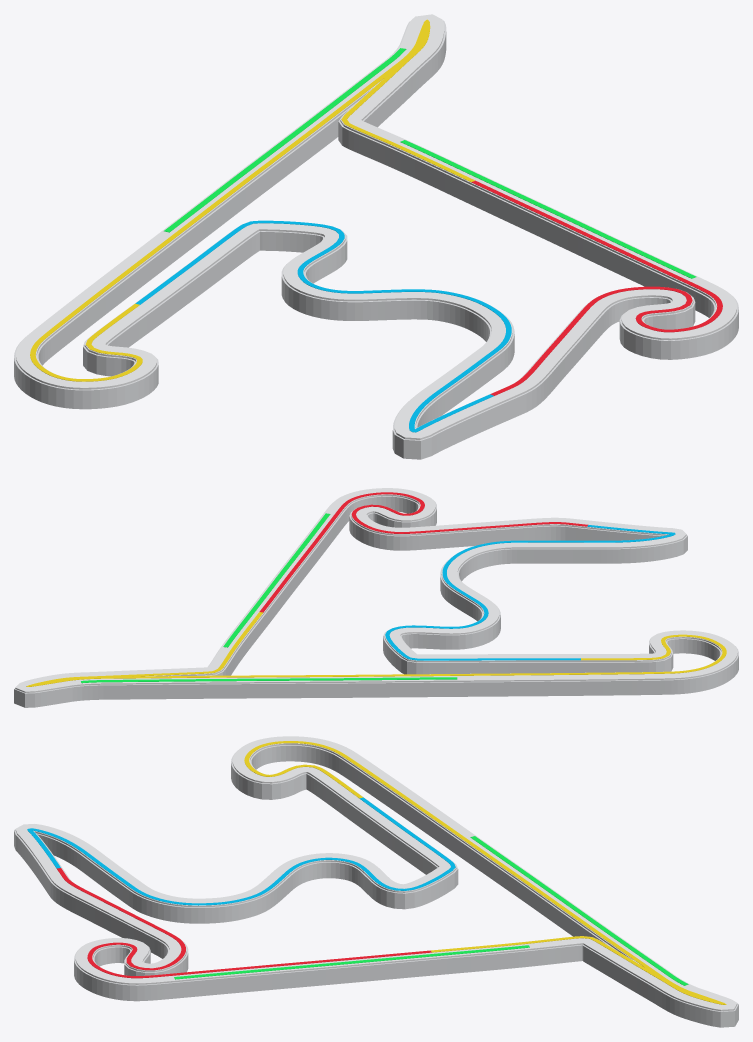
File: ShanghaiCircuit.glb
3 views of the same model, one above another, from view 1: azimuth 30°, elevation 25°; view 2: azimuth 150°, elevation 25°; view 3: azimuth 270°, elevation 25° (orthographic). The views are drawn at different scales.
Visible parts, largest first — view 1: ShanghaiOutline, ShanghaiTrack, SectorStrip_3, SectorStrip_2, SectorStrip_1, DrsStrip_1, DrsStrip_2; view 2: ShanghaiOutline, ShanghaiTrack, SectorStrip_3, SectorStrip_2, SectorStrip_1, DrsStrip_1, DrsStrip_2; view 3: ShanghaiOutline, ShanghaiTrack, SectorStrip_3, SectorStrip_2, SectorStrip_1, DrsStrip_2, DrsStrip_1.
Part boxes in pixels (x1,y1,x2,y2): ShanghaiOutline: (14, 19, 738, 459); ShanghaiTrack: (16, 14, 736, 439); SectorStrip_3: (30, 19, 474, 381); SectorStrip_2: (135, 220, 511, 432); SectorStrip_1: (471, 180, 722, 395); DrsStrip_1: (164, 48, 406, 232); DrsStrip_2: (400, 140, 696, 278); ShanghaiOutline: (14, 496, 738, 707); ShanghaiTrack: (15, 488, 737, 692); SectorStrip_3: (26, 612, 726, 686); SectorStrip_2: (385, 525, 675, 660); SectorStrip_1: (259, 492, 587, 612); DrsStrip_1: (81, 677, 457, 683); DrsStrip_2: (223, 513, 330, 647); ShanghaiOutline: (14, 745, 738, 1027); ShanghaiTrack: (15, 736, 737, 1011); SectorStrip_3: (244, 741, 726, 1004); SectorStrip_2: (27, 797, 455, 905); SectorStrip_1: (56, 868, 431, 978); DrsStrip_2: (174, 945, 529, 979); DrsStrip_1: (470, 836, 688, 985).
Bounding box in the file's own units: 16.52 × 0.497 × 18.4.
